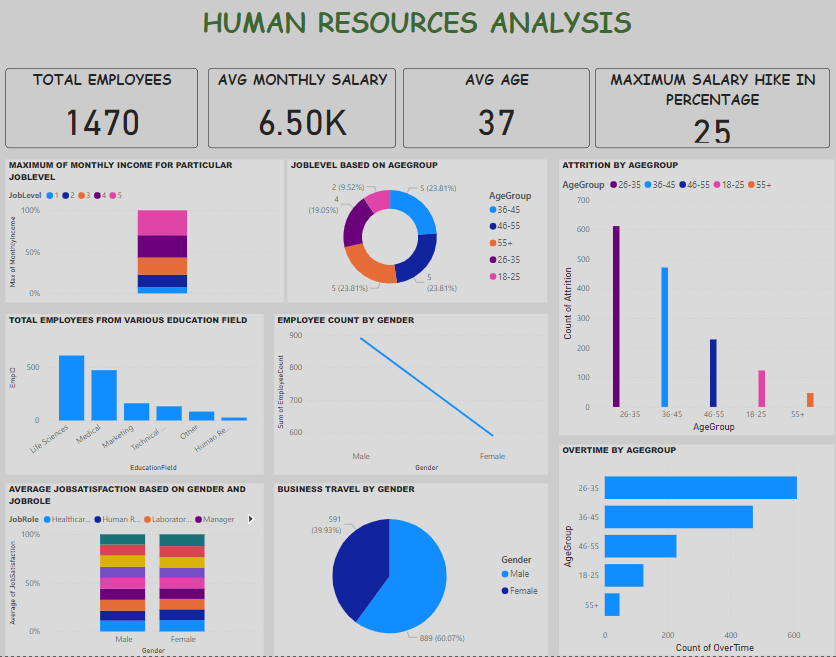

The page's visual inventory and layout, read from the dashboard file:
{"tool":"powerbi","page":{"name":"Page 1","canvas":[1280,1000],"ordinal":0},"visuals":[{"type":"shape","box":[0,0,1279.1,77.3],"z":0},{"type":"card","title":"TOTAL EMPLOYEES","fields":{"Values":["Count(HR_Analysis.EmpID)"]},"box":[15.5,108.2,291.6,121.5],"z":1000},{"type":"card","title":"MAXIMUM SALARY HIKE IN PERCENTAGE","fields":{"Values":["Max(HR_Analysis.PercentSalaryHike)"]},"box":[908,108.2,355.7,121.5],"z":2000},{"type":"pieChart","title":"BUSINESS TRAVEL BY GENDER","fields":{"Category":["HR_Analysis.Gender"],"Y":["CountNonNull(HR_Analysis.BusinessTravel)"]},"box":[422,737.9,415.3,262.9],"z":3000},{"type":"clusteredColumnChart","title":"TOTAL EMPLOYEES FROM VARIOUS EDUCATION FIELD","fields":{"Category":["HR_Analysis.EducationField"],"Y":["CountNonNull(HR_Analysis.EmpID)"]},"box":[15.5,481.6,391,243],"z":4000},{"type":"clusteredColumnChart","title":"ATTRITION BY AGEGROUP","fields":{"Category":["HR_Analysis.AgeGroup"],"Y":["CountNonNull(HR_Analysis.Attrition)"],"Series":["HR_Analysis.AgeGroup"]},"box":[855,247.4,417.5,417.5],"z":5000},{"type":"donutChart","title":"JOBLEVEL BASED ON AGEGROUP","fields":{"Category":["HR_Analysis.AgeGroup"],"Y":["Count(HR_Analysis.JobLevel)"]},"box":[444,247.4,393.2,216.5],"z":6000},{"type":"clusteredBarChart","title":"OVERTIME BY AGEGROUP","fields":{"Category":["HR_Analysis.AgeGroup"],"Y":["CountNonNull(HR_Analysis.OverTime)"]},"box":[855,680.4,417.5,320.3],"z":7000},{"type":"hundredPercentStackedColumnChart","title":"MAXIMUM OF MONTHLY INCOME FOR PARTICULAR JOBLEVEL","fields":{"Y":["Max(HR_Analysis.MonthlyIncome)"],"Series":["HR_Analysis.JobLevel"]},"box":[15.5,247.4,422,216.5],"z":8000},{"type":"hundredPercentStackedColumnChart","title":"AVERAGE JOBSATISFACTION BASED ON GENDER AND JOBROLE","fields":{"Y":["Avg(HR_Analysis.JobSatisfaction)"],"Category":["HR_Analysis.Gender"],"Series":["HR_Analysis.JobRole"]},"box":[15.5,737.9,391,262.9],"z":9000},{"type":"lineChart","title":"EMPLOYEE COUNT BY GENDER","fields":{"Category":["HR_Analysis.Gender"],"Y":["Sum(HR_Analysis.EmployeeCount)"]},"box":[422,481.6,415.3,243],"z":10000},{"type":"card","title":"AVG MONTHLY SALARY ","fields":{"Values":["Avg(HR_Analysis.MonthlyIncome)"]},"box":[322.5,108.2,285,121.5],"z":12000},{"type":"card","title":"AVG AGE","fields":{"Values":["Avg(HR_Analysis.Age)"]},"box":[618.6,108.2,282.8,121.5],"z":13000}]}

Visuals, with their boxes in screenshot pixels (x1, y1, x2, y2), scaled from the page's 1280x1000 canvas onto the 836x657 screenshot:
shape: 0:0:835:51
"TOTAL EMPLOYEES" card: 10:71:201:151
"MAXIMUM SALARY HIKE IN PERCENTAGE" card: 593:71:825:151
"BUSINESS TRAVEL BY GENDER" pieChart: 276:485:547:656
"TOTAL EMPLOYEES FROM VARIOUS EDUCATION FIELD" clusteredColumnChart: 10:316:265:476
"ATTRITION BY AGEGROUP" clusteredColumnChart: 558:163:831:437
"JOBLEVEL BASED ON AGEGROUP" donutChart: 290:163:547:305
"OVERTIME BY AGEGROUP" clusteredBarChart: 558:447:831:656
"MAXIMUM OF MONTHLY INCOME FOR PARTICULAR JOBLEVEL" hundredPercentStackedColumnChart: 10:163:286:305
"AVERAGE JOBSATISFACTION BASED ON GENDER AND JOBROLE" hundredPercentStackedColumnChart: 10:485:265:656
"EMPLOYEE COUNT BY GENDER" lineChart: 276:316:547:476
"AVG MONTHLY SALARY " card: 211:71:397:151
"AVG AGE" card: 404:71:589:151
